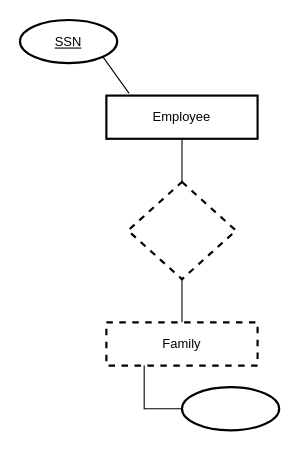
Image size: 298x449. Some labels were removed from this diagram. The shapes that lost their labels are listed below. From the top down, each one's box as (x1, y1, x2, y2) in pixels, then its label:
(126, 180, 237, 280): Dependent
(180, 386, 280, 431): Name
